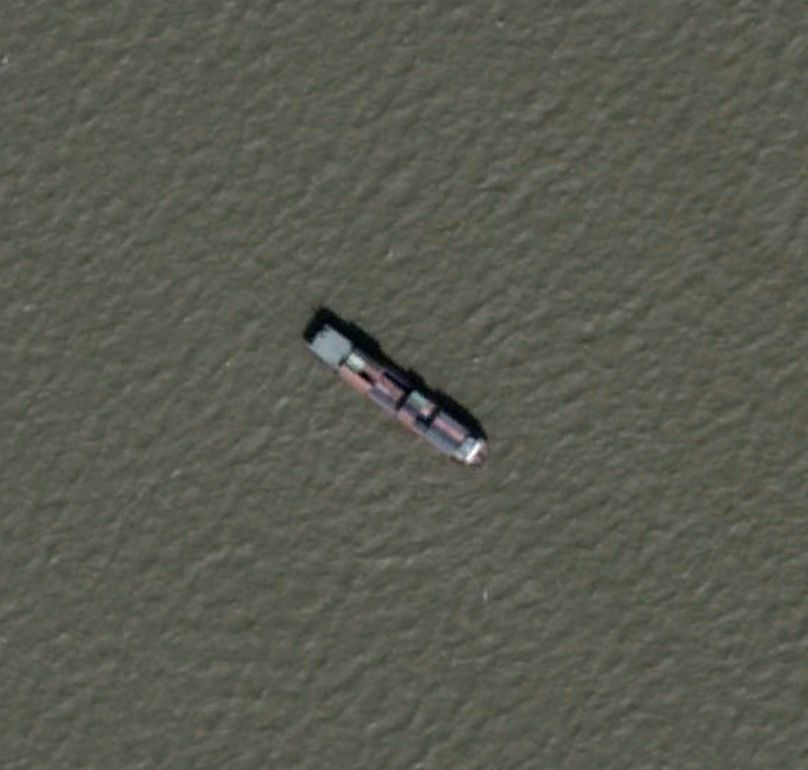boat: (305, 313, 490, 466)
